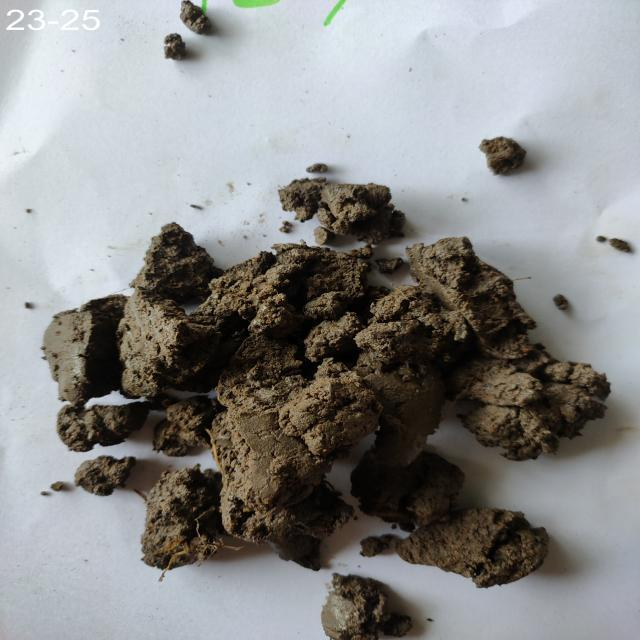soil: (172, 297, 428, 483)
